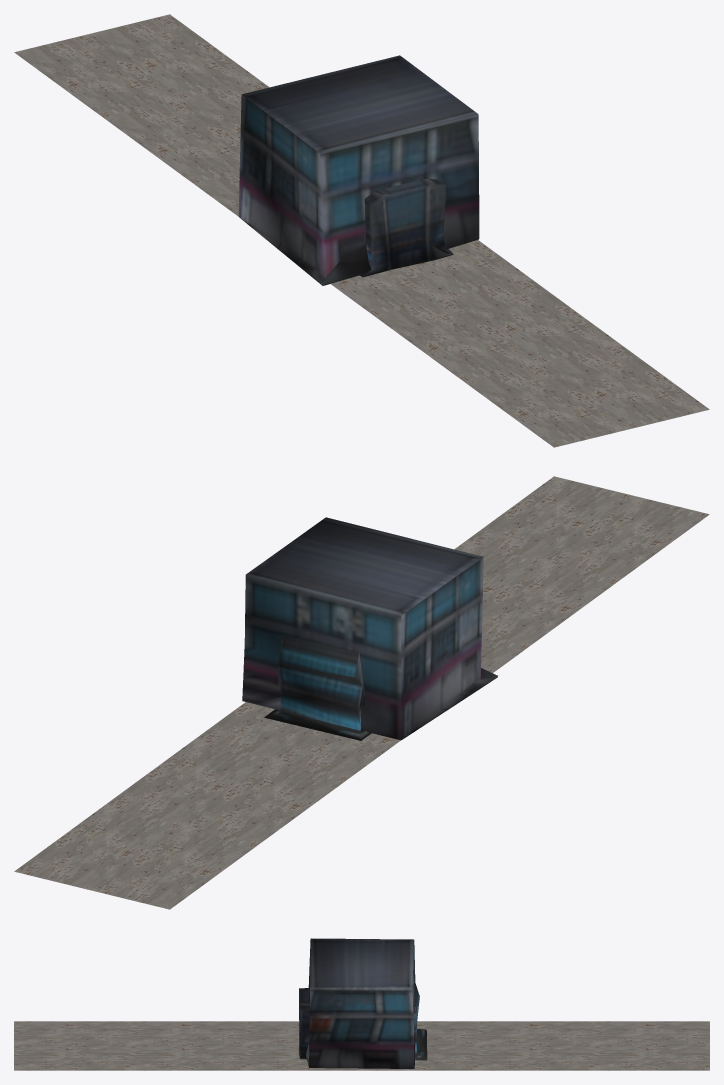
Rendered from Props.glb.
3 renders of one model, top to bottom at view 1: azimuth 30°, elevation 25°; view 2: azimuth 150°, elevation 25°; view 3: azimuth 270°, elevation 25°, orthographic. The views are drawn at different scales.
Visible parts, largest first — view 1: GroundRoad, building, building.001; view 2: GroundRoad, building, building.001; view 3: GroundRoad, building, building.001.
Boxes of the visible parts, left/top/right/bottom form: GroundRoad: left=14, top=14, right=709, bottom=447; building: left=238, top=55, right=479, bottom=285; building.001: left=360, top=179, right=453, bottom=277; GroundRoad: left=14, top=476, right=709, bottom=909; building: left=242, top=517, right=497, bottom=740; building.001: left=264, top=635, right=371, bottom=740; GroundRoad: left=14, top=1021, right=709, bottom=1070; building: left=306, top=938, right=415, bottom=1068; building.001: left=299, top=983, right=427, bottom=1060.
Size of the model in its own units: 10.69 by 8.33 by 60.
10 materials, 10 textured.
